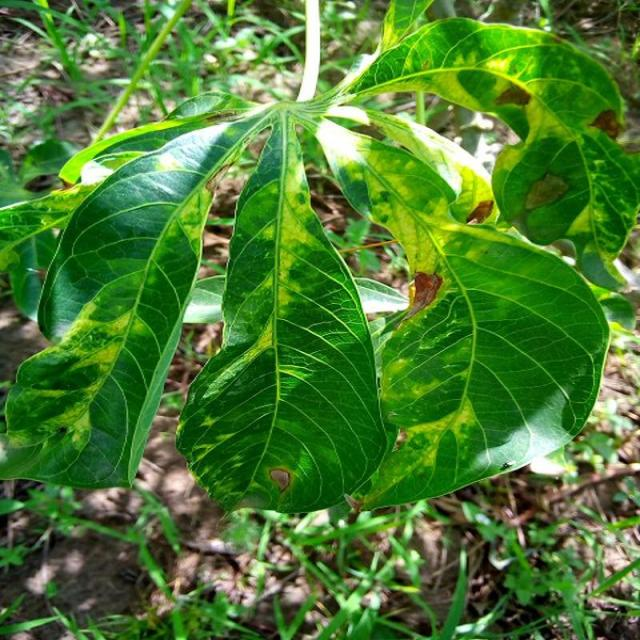cassava leaf: (1, 4, 637, 518), (174, 106, 387, 516)
